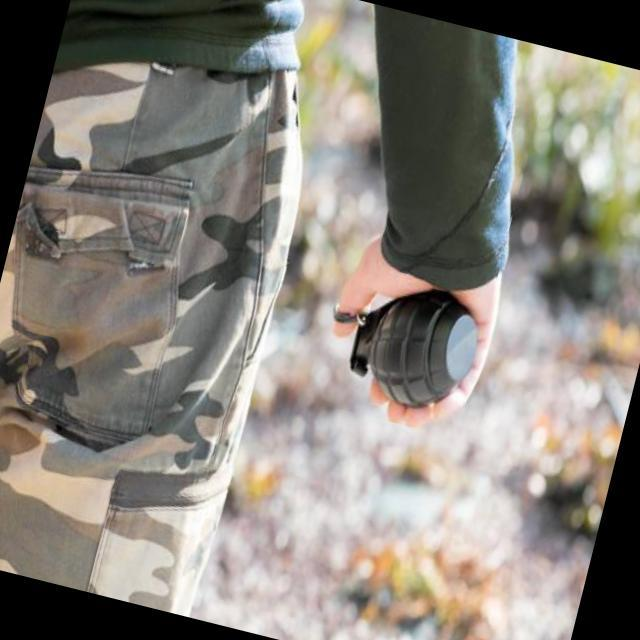grenade: (314, 253, 491, 420)
